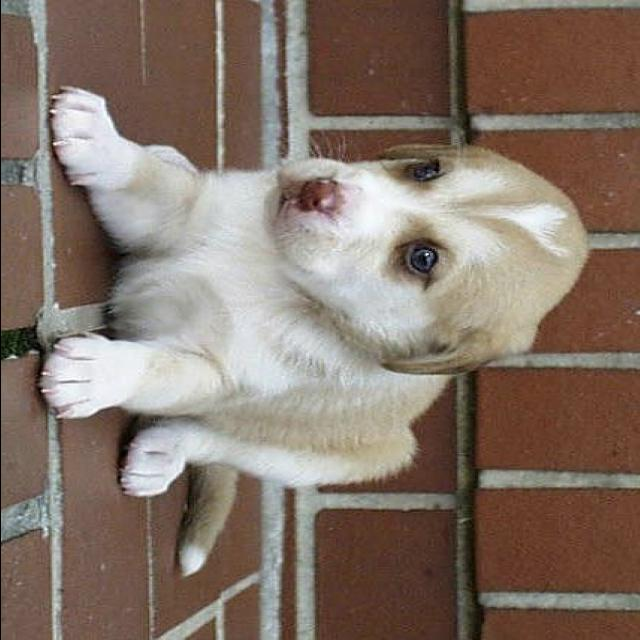chihuahua: (30, 77, 604, 575)
